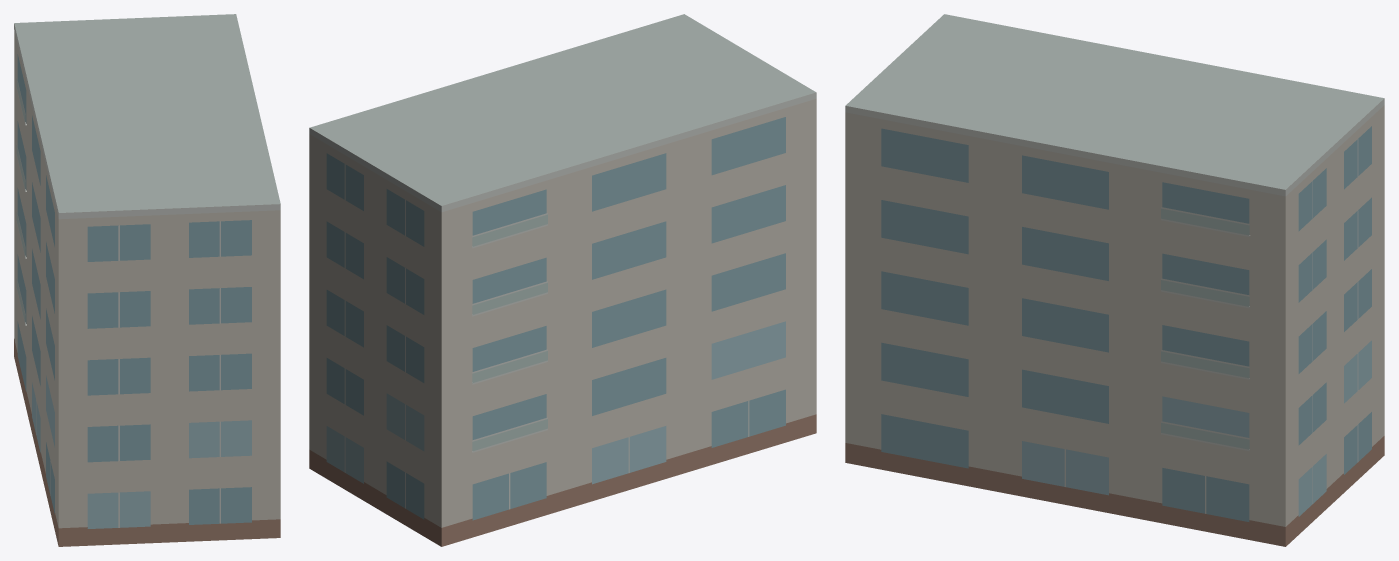
Rendered from survey-upis-32748194.glb.
3 views of the same model, side by side, from view 1: azimuth 30°, elevation 25°; view 2: azimuth 150°, elevation 25°; view 3: azimuth 270°, elevation 25° (orthographic). The views are drawn at different scales.
Parts seen in each view (by area): view 1: survey-upis-32748194.tmp; view 2: survey-upis-32748194.tmp; view 3: survey-upis-32748194.tmp.
Part boxes in pixels (x1=…): survey-upis-32748194.tmp: x1=14, y1=14, x2=280, y2=546; survey-upis-32748194.tmp: x1=309, y1=14, x2=816, y2=546; survey-upis-32748194.tmp: x1=845, y1=14, x2=1384, y2=546.
Size of the model in its own units: 13.96 by 13.2 by 18.08.
